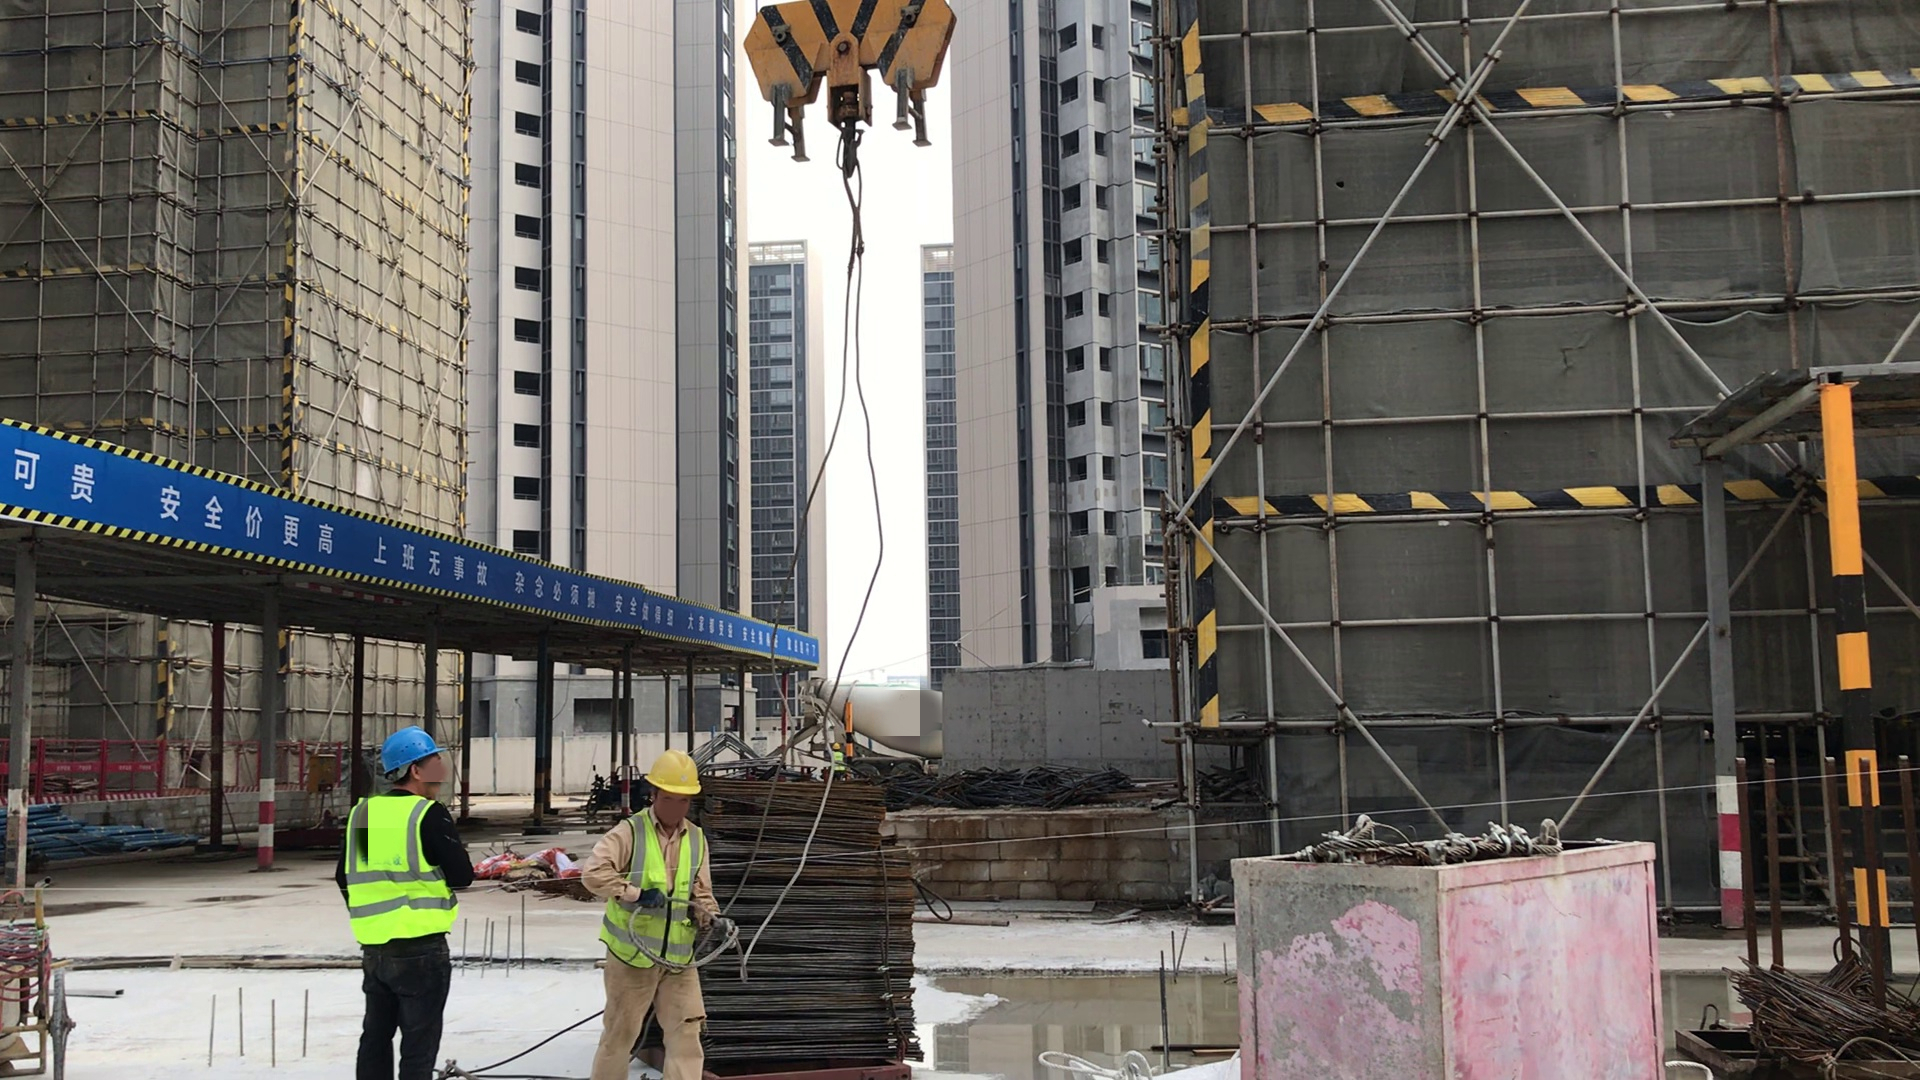ebox: (307, 749, 339, 795)
fence: (3, 733, 341, 804)
helmet: (379, 726, 445, 773), (644, 747, 704, 796), (832, 741, 841, 749)
hook: (728, 1, 961, 182)
person: (575, 743, 732, 1080), (335, 721, 473, 1080), (825, 740, 846, 778)
slogan: (9, 430, 339, 555), (371, 519, 607, 610), (613, 580, 827, 666)
vest: (347, 792, 460, 942), (607, 809, 698, 970), (831, 752, 845, 771)
